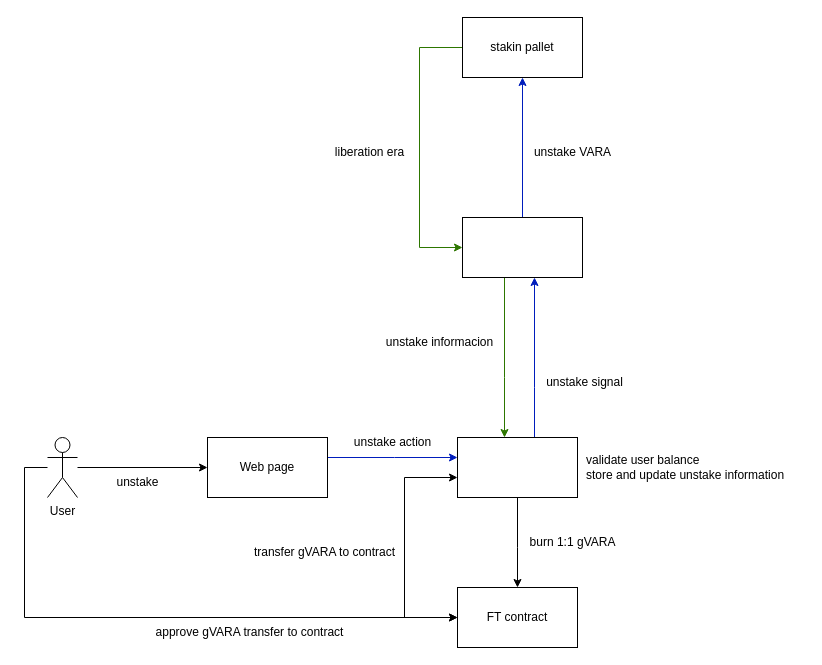
Image size: 822x665. Some labels were removed from this diagram. Here are the shapes that lost their labels. From the top down, the centre of each, then its label:
(x=522, y=247): off-chain server
(x=517, y=467): Luiquidity contract
